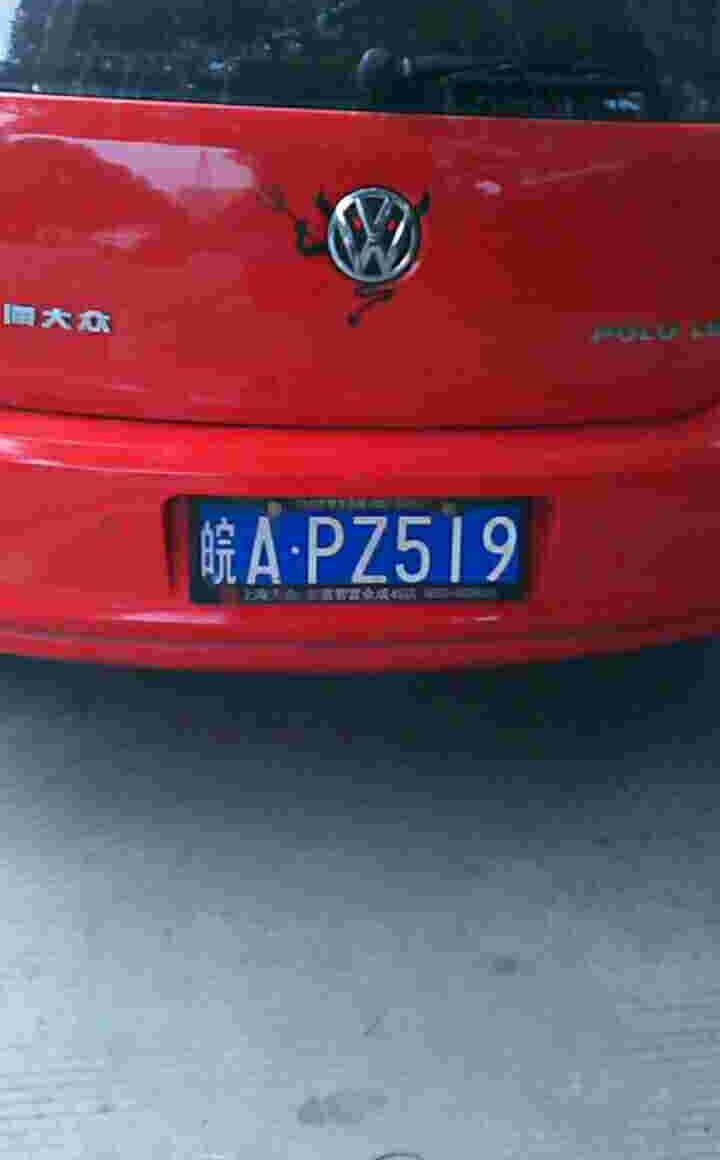license_plate: (183, 493, 534, 604)
